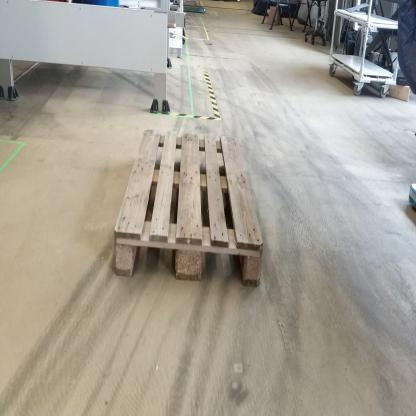BoxFace: (107, 125, 271, 298)
